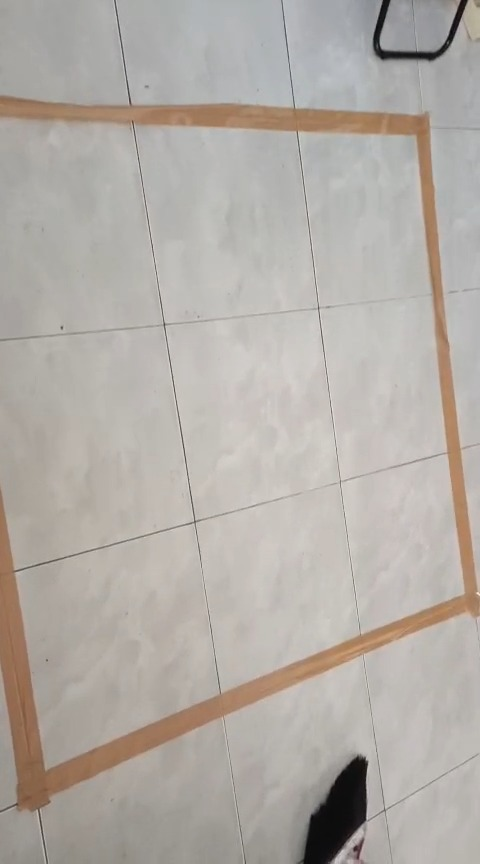floor marking: (0, 96, 479, 809)
